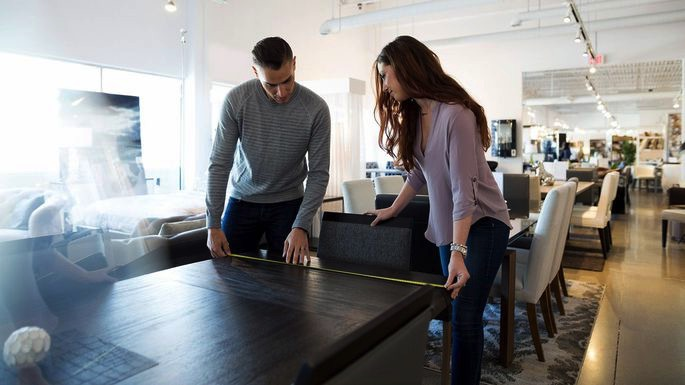Age_20_30: (372, 43, 434, 101)
Age_30_40: (251, 48, 300, 104)
E_White: (372, 43, 434, 101), (251, 48, 300, 104)
Emotion_Neutral: (372, 43, 434, 101), (251, 48, 300, 104)
G_ Female: (372, 43, 434, 101)
G_Male: (251, 48, 300, 104)
